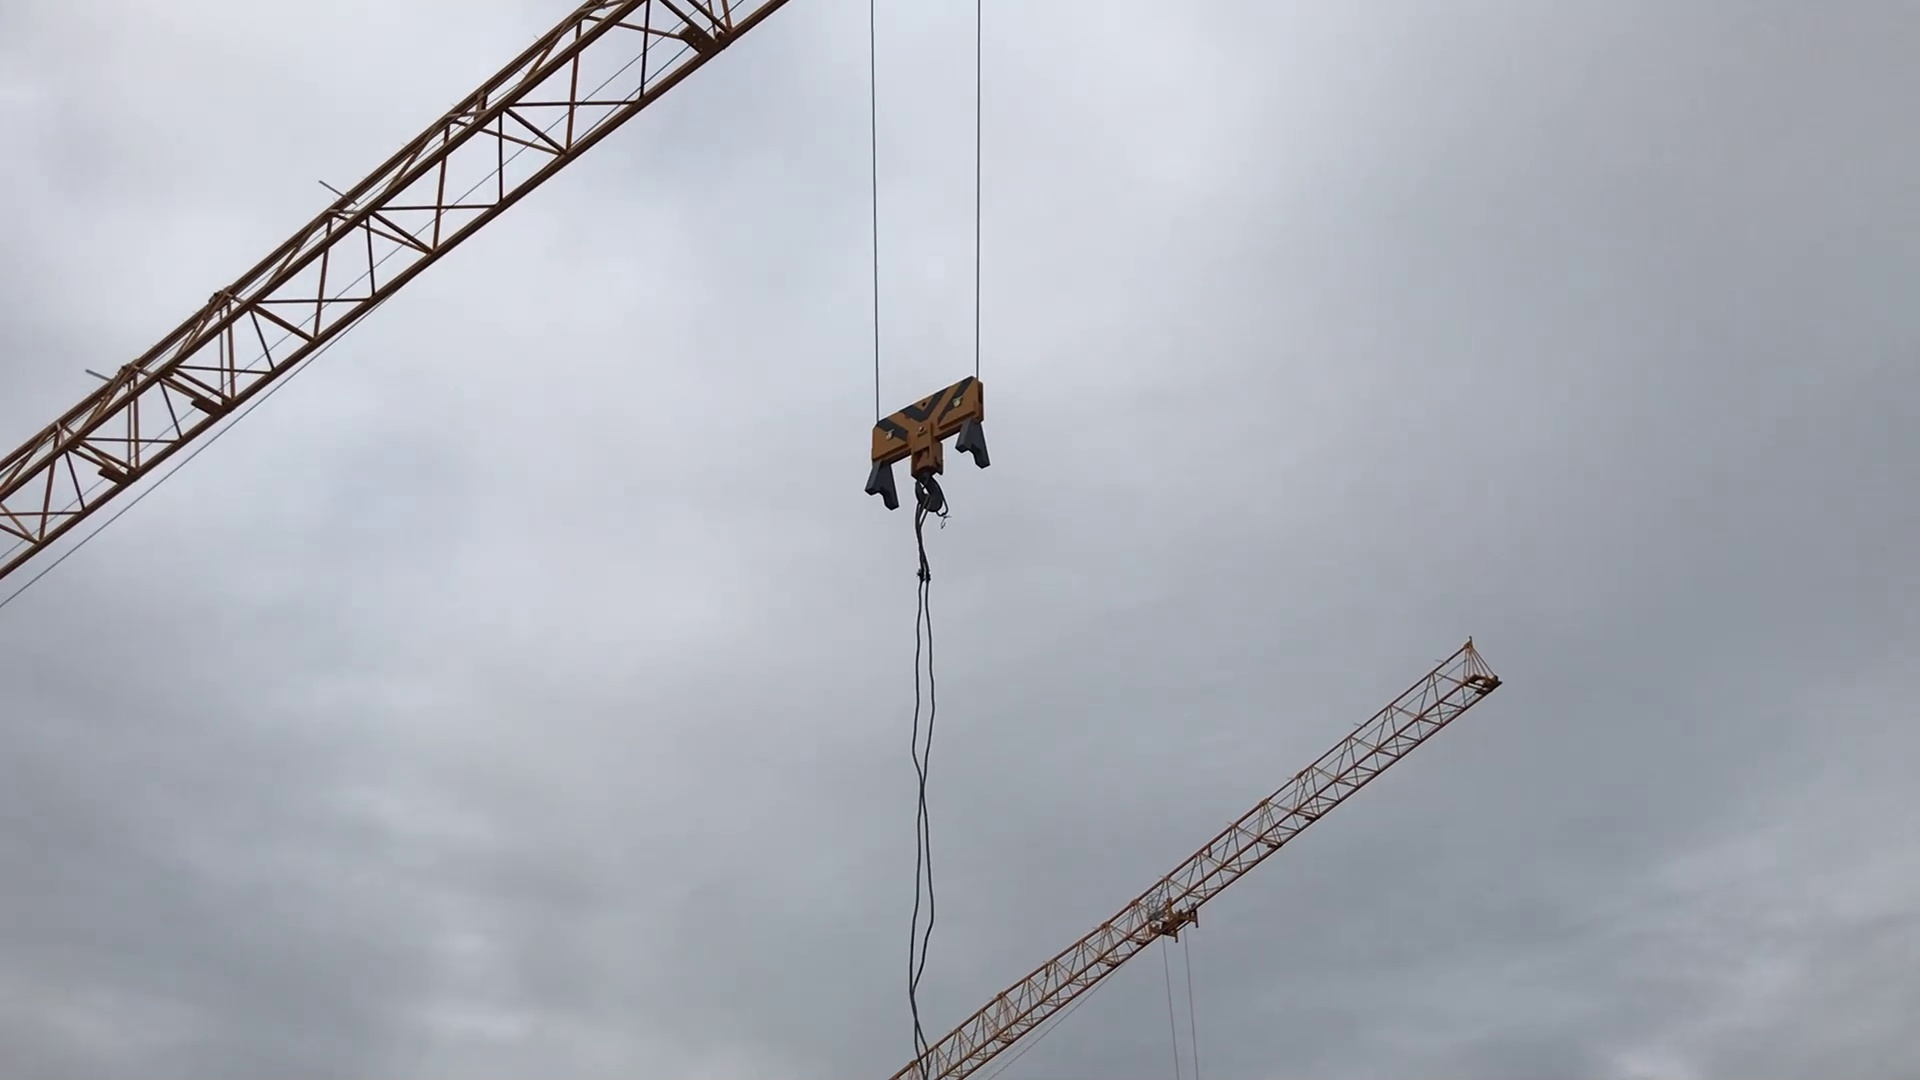hook: (849, 371, 1018, 545)
